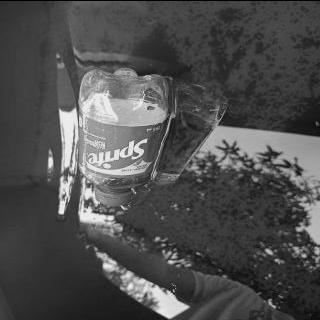bottle: (72, 64, 172, 207)
